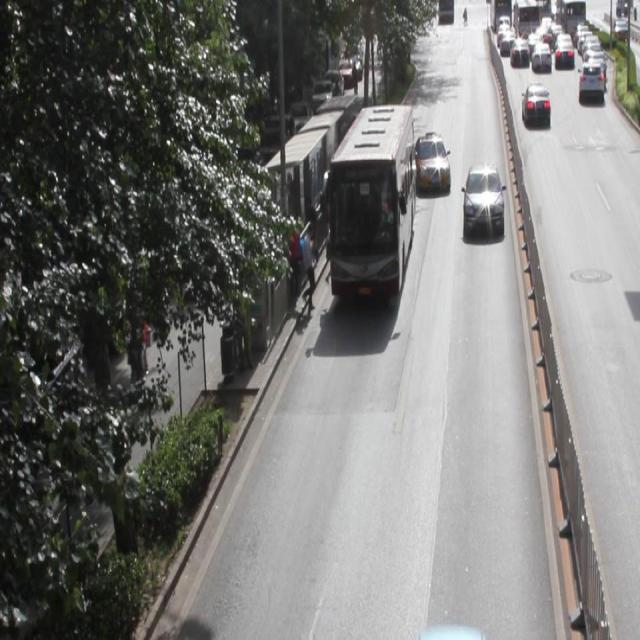car: (463, 164, 501, 233), (412, 132, 449, 192), (521, 82, 549, 123)
van: (328, 104, 413, 297)
